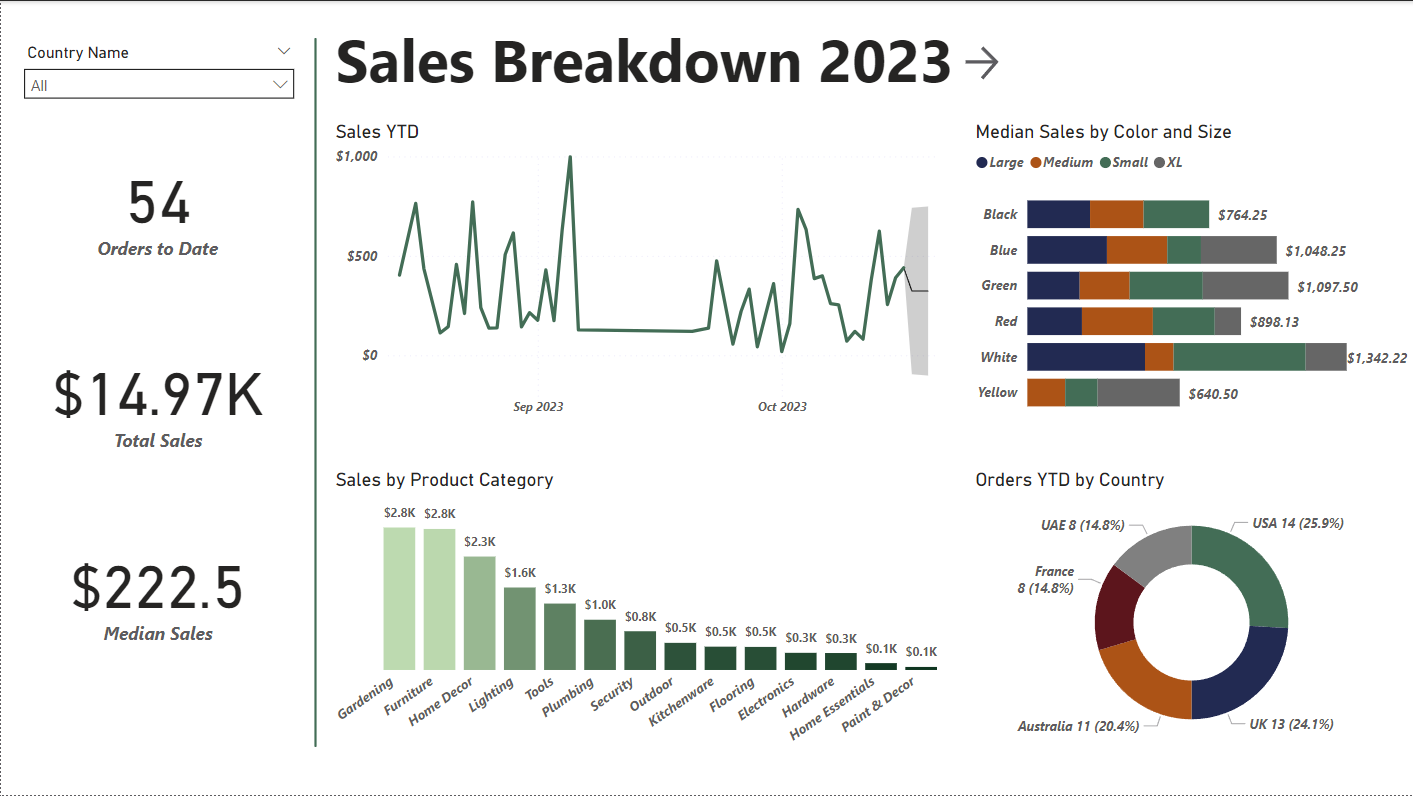

The dashboard page shown, as its layout file describes it:
{"tool":"powerbi","page":{"name":"Sales Overview","canvas":[1280,720],"ordinal":0},"visuals":[{"type":"card","fields":{"Values":["Sum(Sales in USD.Gross Revenue USD)"]},"box":[37.9,285.2,208.6,149.6],"z":0},{"type":"card","fields":{"Values":["Sales in USD.Median Sales"]},"box":[37.9,459.7,208.6,149.6],"z":1000},{"type":"card","fields":{"Values":["Sales in USD.YTD Orders"]},"box":[44.7,110.6,195,149.6],"z":2000},{"type":"lineChart","title":"Sales YTD","fields":{"Category":["CalendarTable.Date"],"Y":["Sum(Sales in USD.Gross Revenue USD)"]},"box":[298.3,107.9,570.4,278.4],"z":3000},{"type":"slicer","fields":{"Values":["Sales in USD.Country Name"]},"box":[10.9,33.6,264.8,66.2],"z":4000},{"type":"columnChart","title":"Sales by Product Category","fields":{"Category":["Sales in USD.Product Category"],"Y":["Sum(Sales in USD.Gross Revenue USD)"]},"box":[298.3,423.5,570.4,261.2],"z":5000},{"type":"donutChart","title":"Orders YTD by Country","fields":{"Y":["Sales in USD.YTD Orders"],"Category":["Sales in USD.Country Name Hierarchy.Country Name","Sales in USD.Country Name Hierarchy.ZIP Code","Sales in USD.Country Name Hierarchy.Street Address"]},"box":[878.7,423.5,401.7,261.2],"z":6000},{"type":"textbox","box":[298.3,10.9,580.4,90.7],"z":7000},{"type":"shape","box":[270.2,33.6,29.9,642.9],"z":8000},{"type":"actionButton","box":[868.7,36.3,99.7,39.9],"z":9000},{"type":"barChart","fields":{"Category":["Sales in USD. Color  "],"Y":["Sales in USD.Median Sales"],"Series":["Sales in USD. Size  "]},"box":[878.7,107.9,401.7,278.4],"z":10000},{"type":"actionButton","box":[0,0,100,40],"z":11000}]}

Visuals, with their boxes in screenshot pixels (x1, y1, x2, y2), scaled from the page's 1280x720 canvas onto the 1413x796 screenshot:
card - Sum(Sales in USD.Gross Revenue USD): <bbox>42, 315, 272, 481</bbox>
card - Sales in USD.Median Sales: <bbox>42, 508, 272, 674</bbox>
card - Sales in USD.YTD Orders: <bbox>49, 122, 265, 288</bbox>
"Sales YTD" lineChart: <bbox>329, 119, 959, 427</bbox>
slicer - Sales in USD.Country Name: <bbox>12, 37, 304, 110</bbox>
"Sales by Product Category" columnChart: <bbox>329, 468, 959, 757</bbox>
"Orders YTD by Country" donutChart: <bbox>970, 468, 1412, 757</bbox>
textbox: <bbox>329, 12, 970, 112</bbox>
shape: <bbox>298, 37, 331, 748</bbox>
actionButton: <bbox>959, 40, 1069, 84</bbox>
barChart - Sales in USD. Color   x Sales in USD.Median Sales: <bbox>970, 119, 1412, 427</bbox>
actionButton: <bbox>0, 0, 110, 44</bbox>
